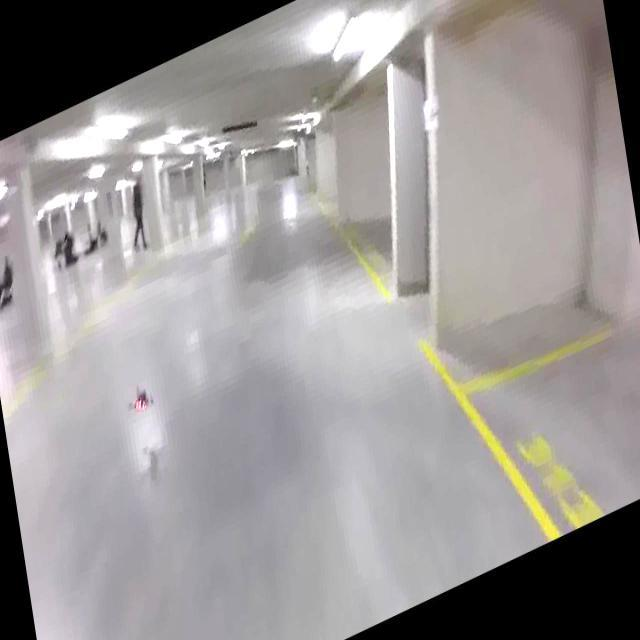drone: (120, 364, 167, 443)
